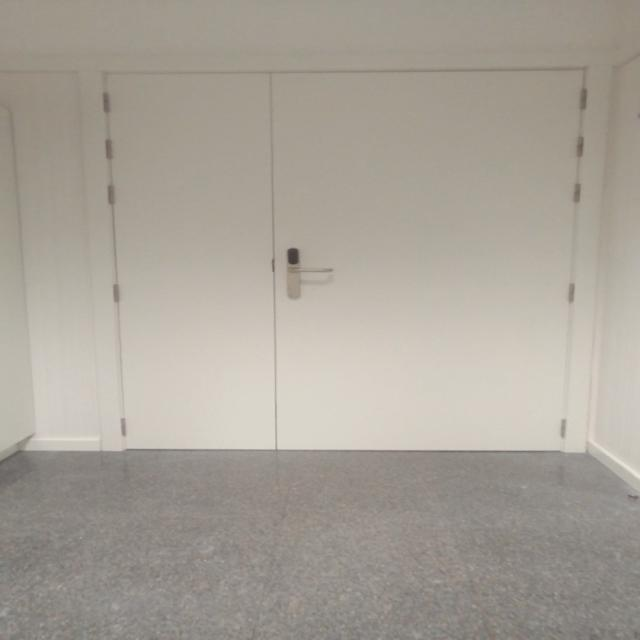door_handle: (286, 267, 336, 273)
